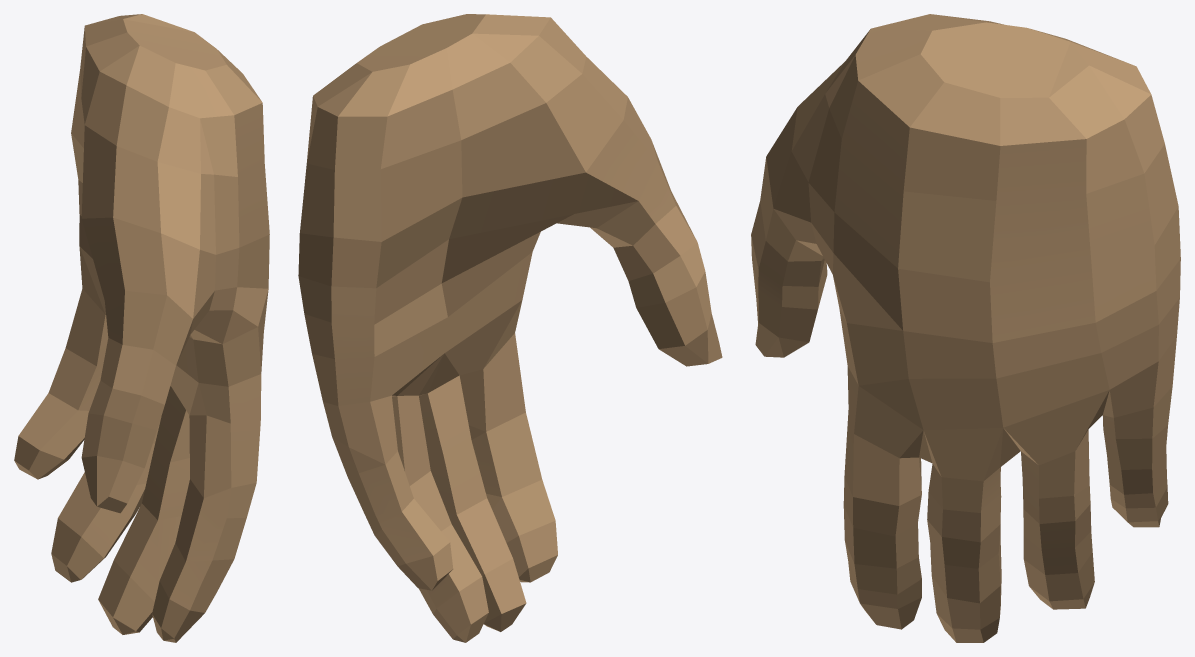
The model's file is LeftHand.glb.
The picture shows the model from 3 angles, left to right: view 1: azimuth 30°, elevation 25°; view 2: azimuth 150°, elevation 25°; view 3: azimuth 270°, elevation 25°; orthographic projection. The views are drawn at different scales.
Parts seen in each view (by area): view 1: LeftHand; view 2: LeftHand; view 3: LeftHand.
Part boxes in pixels (bbox=[...]): LeftHand: bbox=[14, 14, 269, 642]; LeftHand: bbox=[298, 14, 722, 642]; LeftHand: bbox=[751, 14, 1180, 642].
Size of the model in its own units: 3.82 by 8.04 by 4.98.
Materials: 1 (1 with a texture image).
